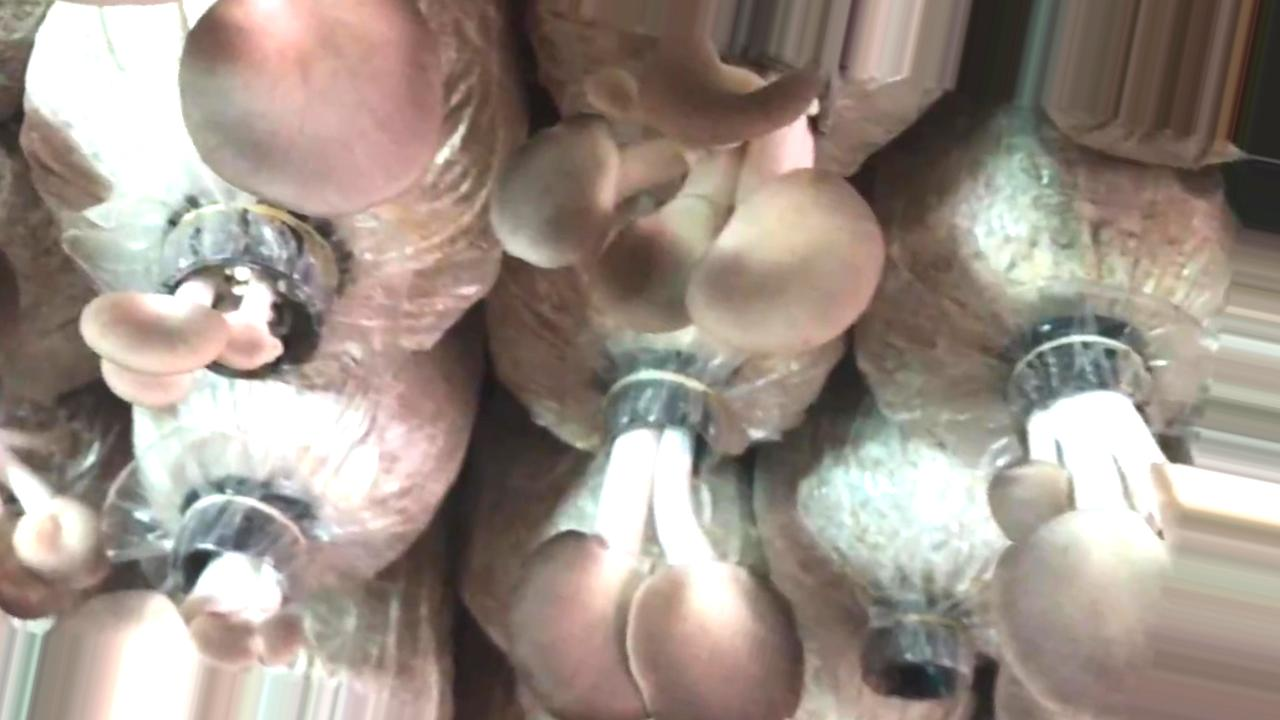nam: (489, 37, 886, 355), (989, 338, 1277, 720), (507, 375, 803, 720), (43, 503, 311, 720), (181, 1, 439, 217), (85, 214, 336, 410), (1, 427, 116, 620)
